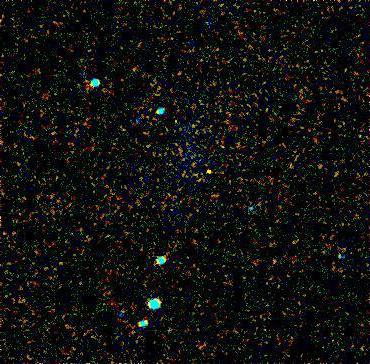star: (194, 156, 224, 186)
